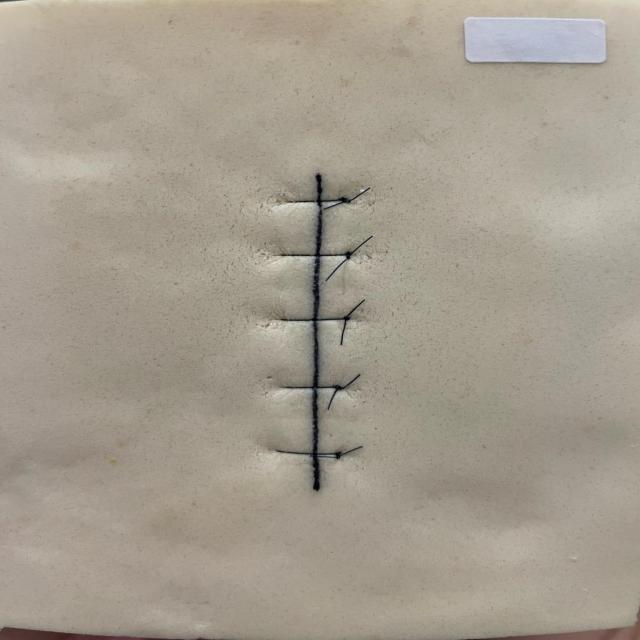knot: (336, 195, 353, 205), (330, 383, 347, 391), (332, 450, 344, 461), (343, 250, 355, 261), (341, 314, 353, 322)
leftover: (324, 256, 350, 282), (347, 235, 374, 257), (344, 298, 366, 319), (347, 186, 371, 202), (340, 372, 361, 390), (337, 445, 364, 458), (326, 387, 340, 411), (321, 199, 347, 210), (339, 318, 347, 346), (308, 454, 339, 458)
stitch: (275, 449, 340, 455), (279, 317, 348, 322), (284, 198, 347, 203), (279, 253, 350, 257), (282, 386, 341, 389)
wound: (312, 175, 322, 490)
